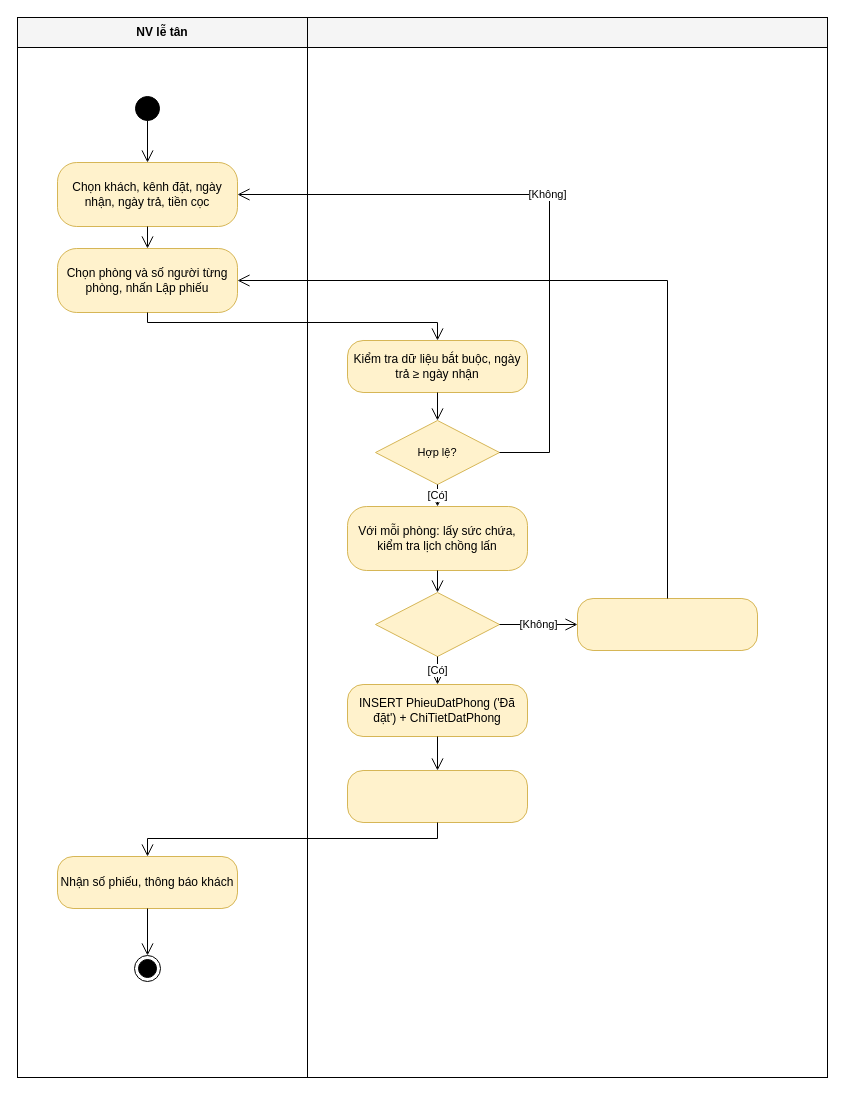
Some shapes in this 845 by 1095 pixel diagram are drawn without their labels. The shapes that lost their labels are listed below. From the top down, each one's box as (x1, y1, x2, y2) in pixels, then its label:
(306, 16, 828, 48): Hệ thống
(374, 592, 500, 656): ≤ sức chứa và không trùng lịch?
(576, 598, 758, 650): Rollback, báo phòng vượt sức chứa / trùng lịch
(346, 770, 528, 822): Cập nhật Phong.TrangThai = 'Đã đặt'; Commit
